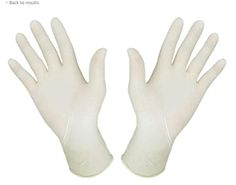gloves: (120, 16, 226, 176), (8, 17, 113, 177)
